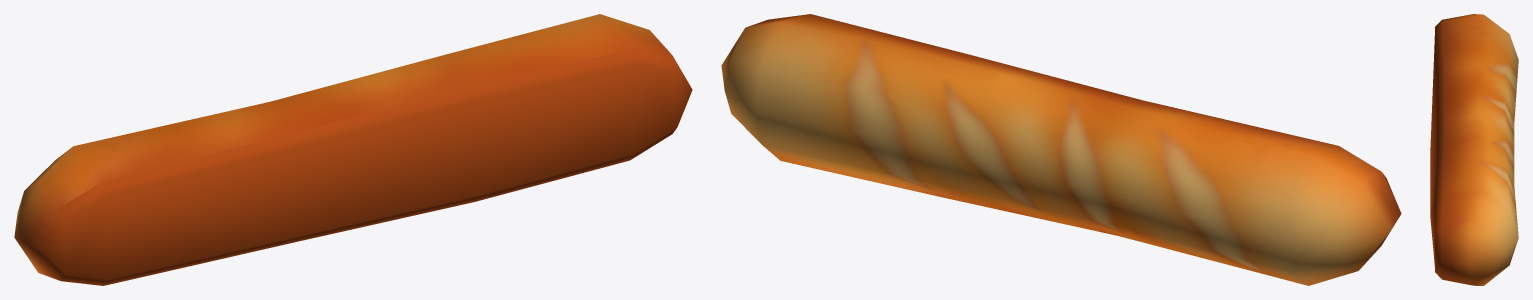
File: Bread.fbx
3 renders of one model, left to right at view 1: azimuth 30°, elevation 25°; view 2: azimuth 150°, elevation 25°; view 3: azimuth 270°, elevation 25°, orthographic. The views are drawn at different scales.
Visible parts, largest first — view 1: Bread; view 2: Bread; view 3: Bread.
Part boxes in pixels (box(x1,y1,x2,y2)): Bread: box(14, 14, 692, 285); Bread: box(721, 14, 1401, 285); Bread: box(1430, 14, 1518, 285).
Bounding box in the file's own units: 25.12 × 4.16 × 4.98.
